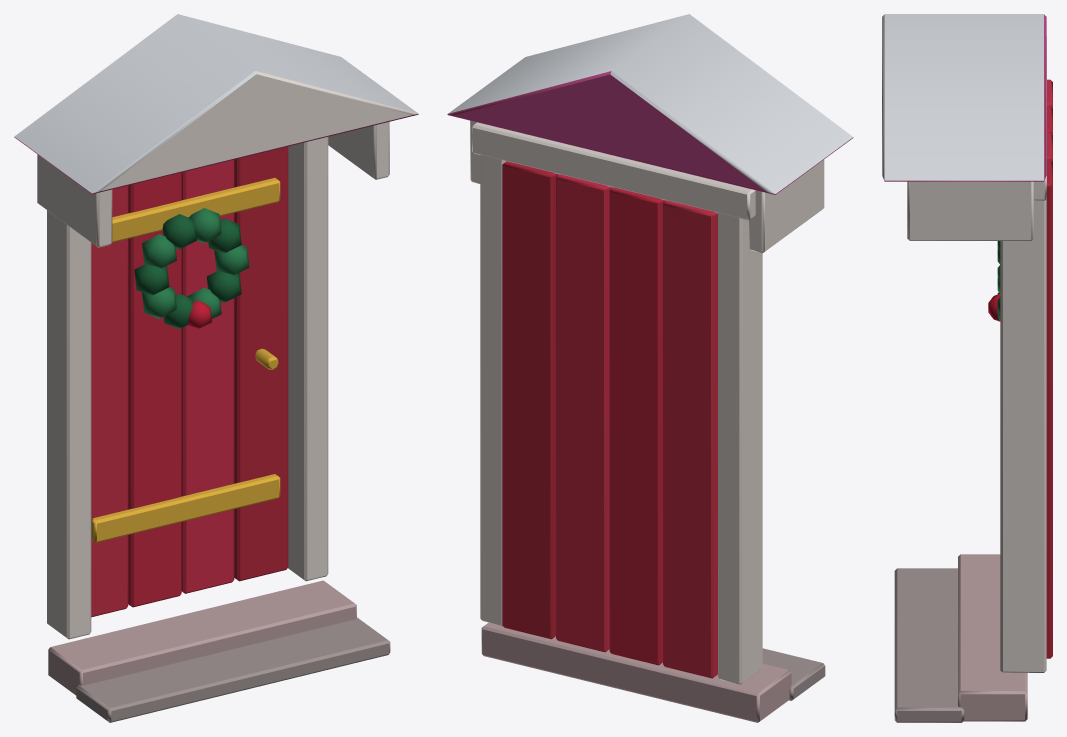
Rendered from CandyHouse_Gingerbread_Door.glb.
The picture shows the model from 3 angles, left to right: view 1: azimuth 30°, elevation 25°; view 2: azimuth 150°, elevation 25°; view 3: azimuth 270°, elevation 25°; orthographic projection. The views are drawn at different scales.
Parts seen in each view (by area): view 1: CandyHouse_Gingerbread_Door; view 2: CandyHouse_Gingerbread_Door; view 3: CandyHouse_Gingerbread_Door.
Boxes of the visible parts, x1,y1,x2,y2 form: CandyHouse_Gingerbread_Door: (14,14,418,722); CandyHouse_Gingerbread_Door: (447,14,853,722); CandyHouse_Gingerbread_Door: (882,14,1052,722).
Size of the model in its own units: 6.13 by 11.16 by 2.7.
